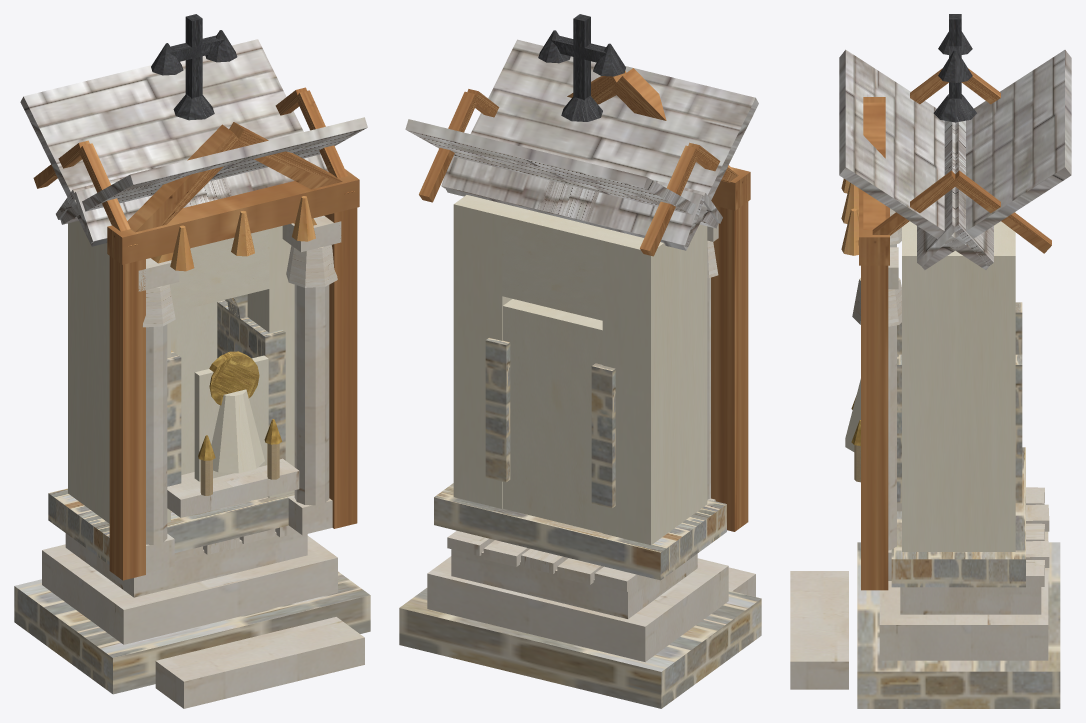
The model's file is wayside_shrine_textured_v1.glb.
3 renders of one model, left to right at view 1: azimuth 30°, elevation 25°; view 2: azimuth 150°, elevation 25°; view 3: azimuth 270°, elevation 25°, orthographic. The views are drawn at different scales.
Visible parts, largest first — view 1: WS_Limewashed_Stone_Niche, WS_Timber_Gable_Canopy, WS_Split_Shingle_Gable_Roof, WS_Worn_Stepped_Plinth, WS_Facade_Half_Columns, WS_Marian_Icon_And_Votives, WS_Worn_Roadside_Step, WS_Forged_Iron_Ridge_Cross; view 2: WS_Limewashed_Stone_Niche, WS_Split_Shingle_Gable_Roof, WS_Worn_Stepped_Plinth, WS_Timber_Gable_Canopy, WS_Forged_Iron_Ridge_Cross, WS_Facade_Half_Columns, WS_Worn_Roadside_Step; view 3: WS_Limewashed_Stone_Niche, WS_Split_Shingle_Gable_Roof, WS_Worn_Stepped_Plinth, WS_Timber_Gable_Canopy, WS_Worn_Roadside_Step, WS_Facade_Half_Columns, WS_Forged_Iron_Ridge_Cross, WS_Marian_Icon_And_Votives.
Boxes of the visible parts, x1=… form: WS_Limewashed_Stone_Niche: x1=48, y1=221, x2=294, y2=564; WS_Timber_Gable_Canopy: x1=107, y1=122, x2=359, y2=580; WS_Split_Shingle_Gable_Roof: x1=20, y1=39, x2=367, y2=246; WS_Worn_Stepped_Plinth: x1=14, y1=525, x2=370, y2=694; WS_Facade_Half_Columns: x1=138, y1=215, x2=341, y2=573; WS_Marian_Icon_And_Votives: x1=167, y1=351, x2=299, y2=517; WS_Worn_Roadside_Step: x1=155, y1=617, x2=364, y2=708; WS_Forged_Iron_Ridge_Cross: x1=151, y1=14, x2=237, y2=120; WS_Limewashed_Stone_Niche: x1=434, y1=195, x2=726, y2=580; WS_Split_Shingle_Gable_Roof: x1=405, y1=39, x2=758, y2=256; WS_Worn_Stepped_Plinth: x1=399, y1=531, x2=761, y2=708; WS_Timber_Gable_Canopy: x1=567, y1=68, x2=750, y2=531; WS_Forged_Iron_Ridge_Cross: x1=538, y1=14, x2=625, y2=121; WS_Facade_Half_Columns: x1=707, y1=223, x2=718, y2=501; WS_Worn_Roadside_Step: x1=728, y1=567, x2=755, y2=596; WS_Limewashed_Stone_Niche: x1=891, y1=212, x2=1025, y2=587; WS_Split_Shingle_Gable_Roof: x1=839, y1=49, x2=1071, y2=270; WS_Worn_Stepped_Plinth: x1=857, y1=487, x2=1060, y2=708; WS_Timber_Gable_Canopy: x1=841, y1=97, x2=889, y2=590; WS_Worn_Roadside_Step: x1=790, y1=571, x2=848, y2=689; WS_Facade_Half_Columns: x1=852, y1=208, x2=901, y2=580; WS_Forged_Iron_Ridge_Cross: x1=933, y1=14, x2=976, y2=122; WS_Marian_Icon_And_Votives: x1=845, y1=379, x2=901, y2=511.
Size of the model in its own units: 1.78 by 4.03 by 1.64.
12 materials, 12 textured.
